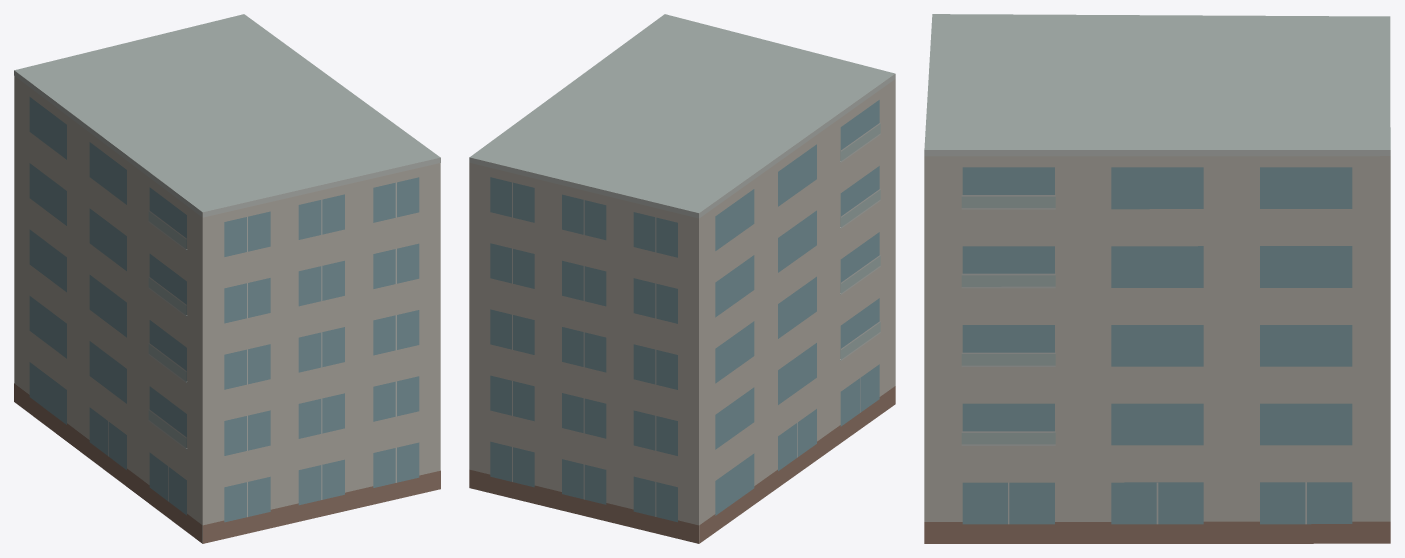
The model's file is survey-upis-32956261.glb.
3 views of the same model, side by side, from view 1: azimuth 30°, elevation 25°; view 2: azimuth 150°, elevation 25°; view 3: azimuth 270°, elevation 25° (orthographic). The views are drawn at different scales.
Parts seen in each view (by area): view 1: survey-upis-32956261.tmp; view 2: survey-upis-32956261.tmp; view 3: survey-upis-32956261.tmp.
Part boxes in pixels (x1,y1,x2,y2): survey-upis-32956261.tmp: [14, 14, 440, 543]; survey-upis-32956261.tmp: [469, 14, 895, 543]; survey-upis-32956261.tmp: [924, 14, 1390, 543].
Size of the model in its own units: 11.36 by 15.25 by 16.37.
